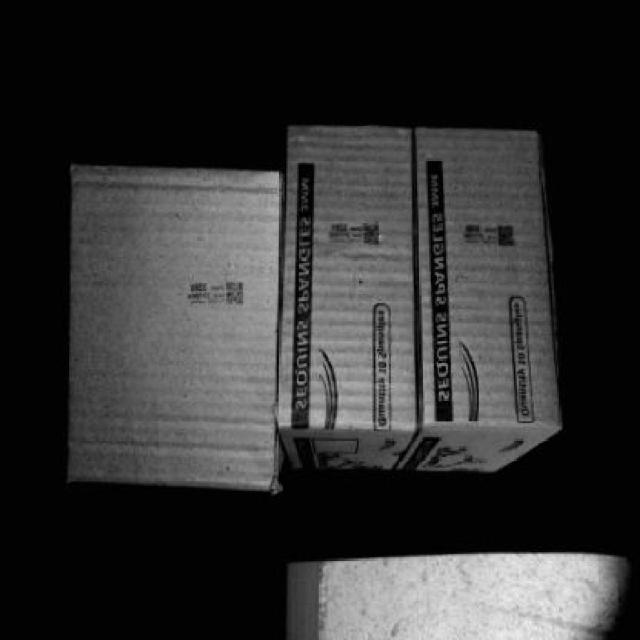cardboxes: (68, 170, 274, 479), (276, 124, 422, 430), (419, 126, 561, 423)
